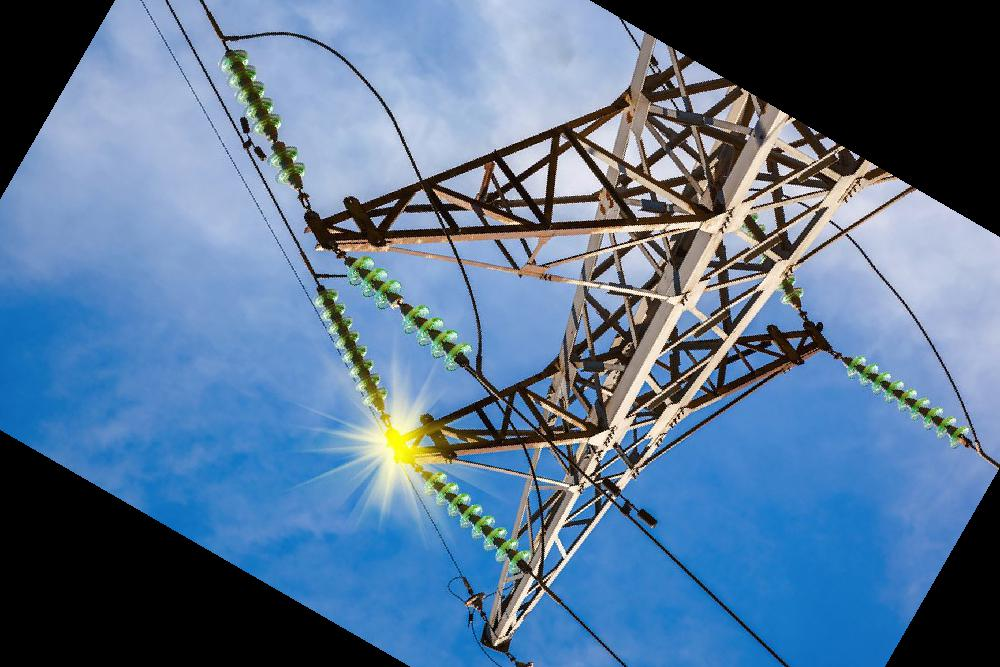insulator: (343, 252, 476, 376), (840, 350, 974, 454), (217, 45, 308, 197), (417, 465, 536, 578), (310, 284, 390, 414), (775, 272, 807, 312)
insulator_stringdrop: (371, 277, 433, 338), (248, 110, 301, 169)
